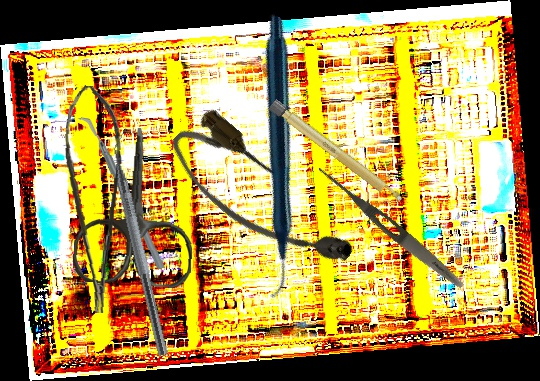Cannula: (159, 102, 364, 293)
Chopper: (101, 125, 185, 358), (75, 113, 168, 273)
Dressing Forceps: (312, 162, 468, 293)
Handpiece: (137, 11, 410, 301)
Iris Scissors: (71, 124, 201, 289)
Micro Scissor: (51, 84, 127, 314)
Scalpel Handle: (268, 98, 405, 207)
